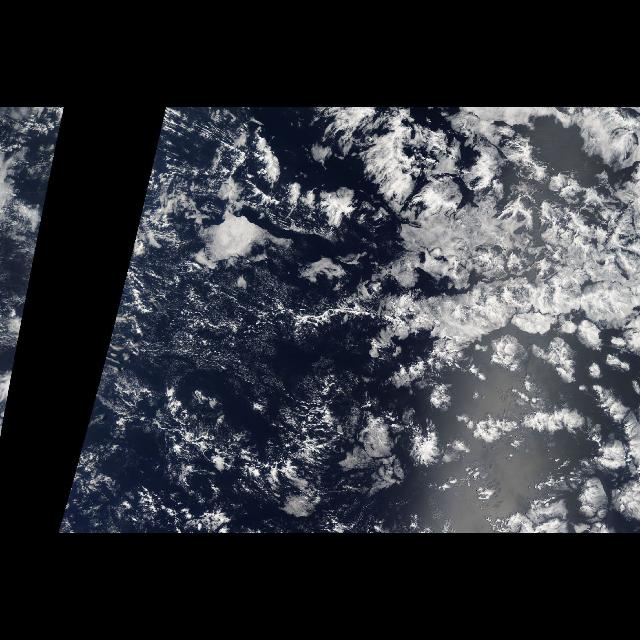Fish: (139, 390, 385, 494)
Flower: (92, 109, 640, 533)
Sugar: (111, 256, 292, 370)
